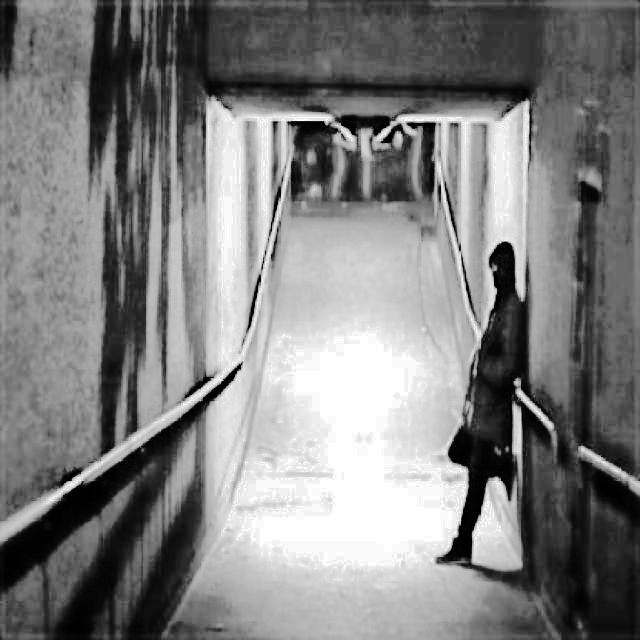Person: (436, 237, 527, 571)
